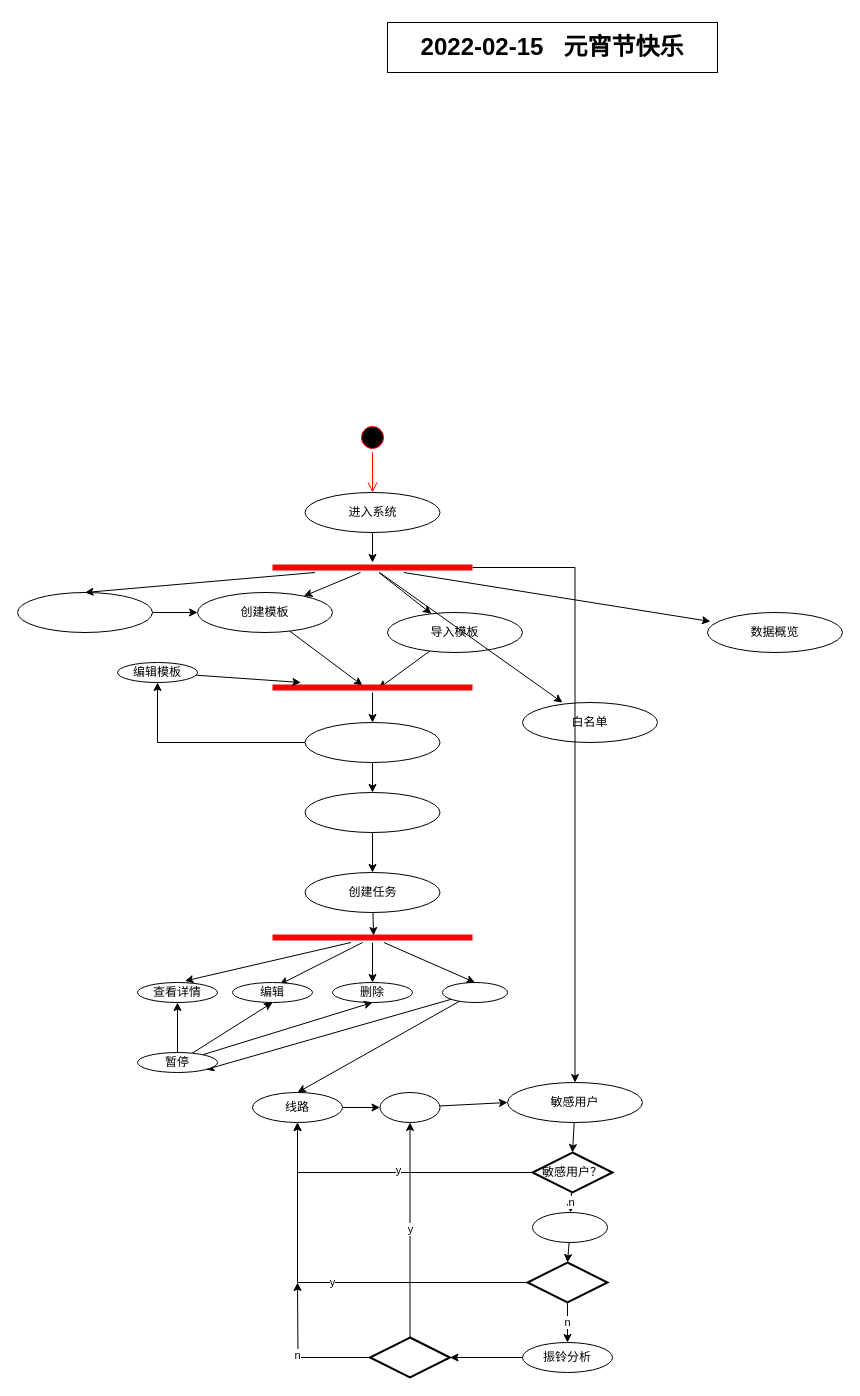
Image size: 860x1396. Some labels were removed from this diagram. Here are the shapes that lost their labels. From the top down, the centre of each, then its label:
At (84,612): "业务标签".
At (372,742): "我的方案".
At (372,812): "创建呼叫策略".
At (475,992): "启动".
At (409,1107): "客户信息".
At (570,1227): "软交换".
At (567,1282): "是否接听".
At (409,1357): "重呼？".
